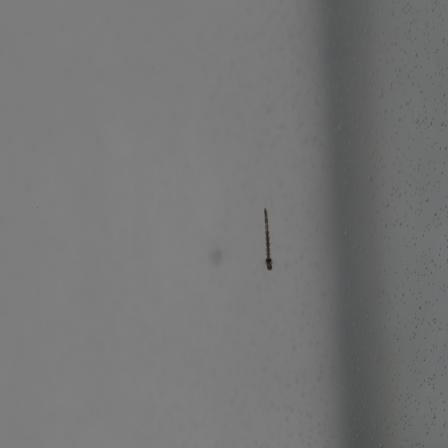Jentik-Nyamuk: (261, 206, 277, 269)
